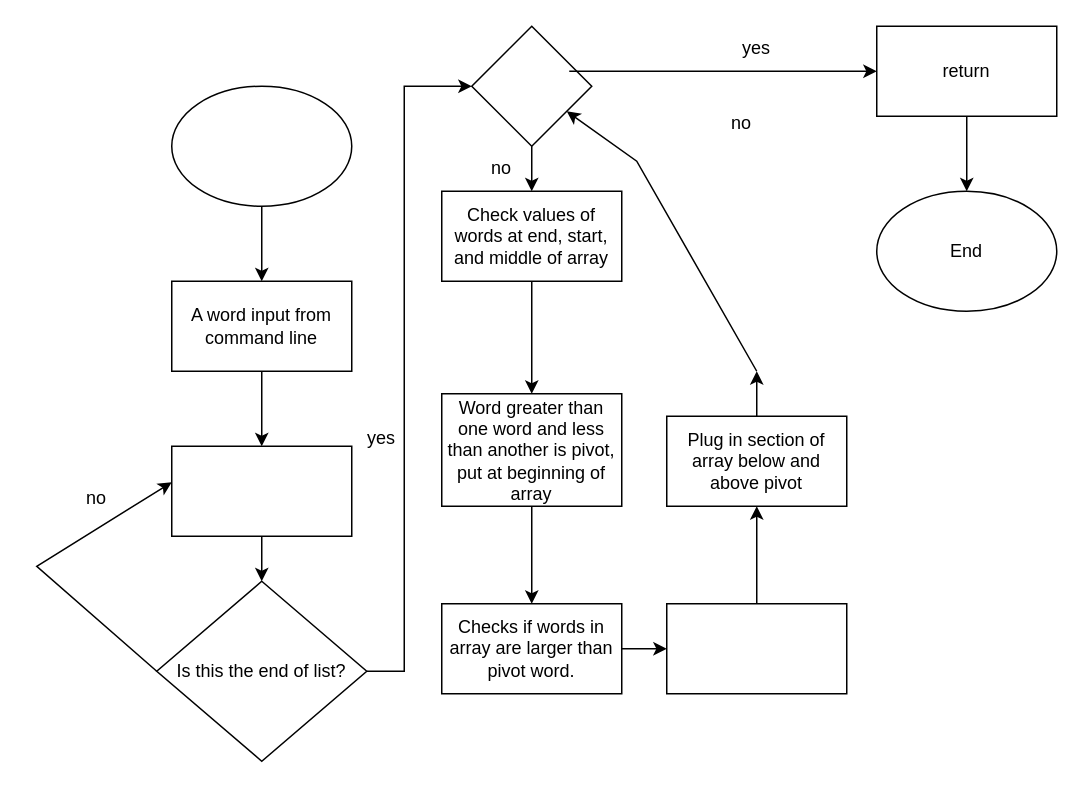
The diagram is 1083 pixels wide and 788 high, and some of its shapes have lost their labels. Here are the shapes that lost their labels. From the top down, the centre of each, then its label:
At pixel 531 85: "Is array less than 2 words?".
At pixel 261 145: "Start".
At pixel 261 490: "Word is put into array".
At pixel 756 648: "Use this to determine position of the pivot word".
